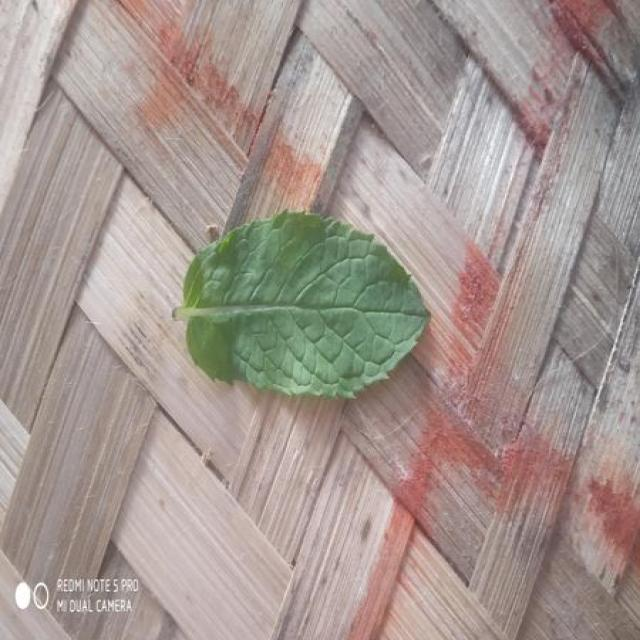mint: (175, 211, 428, 398)
